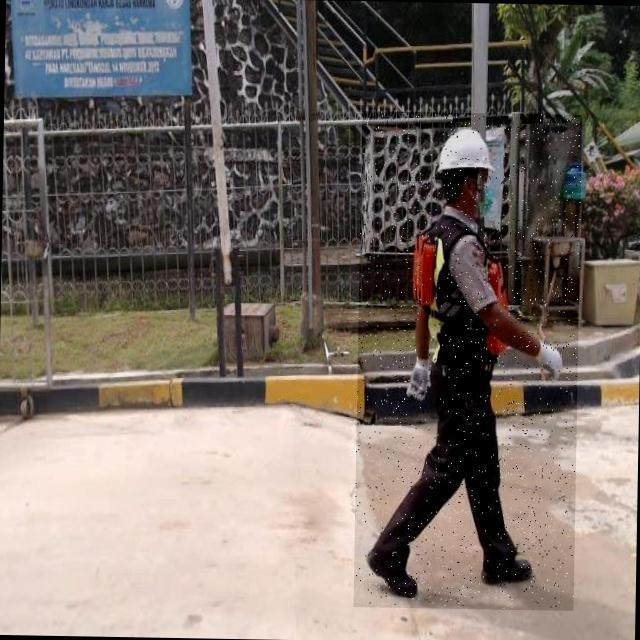Helmet: (438, 124, 496, 182)
Human: (353, 111, 582, 611)
Safety Boot: (365, 537, 422, 602), (479, 550, 539, 593)
Safety Vest: (409, 215, 513, 365)
